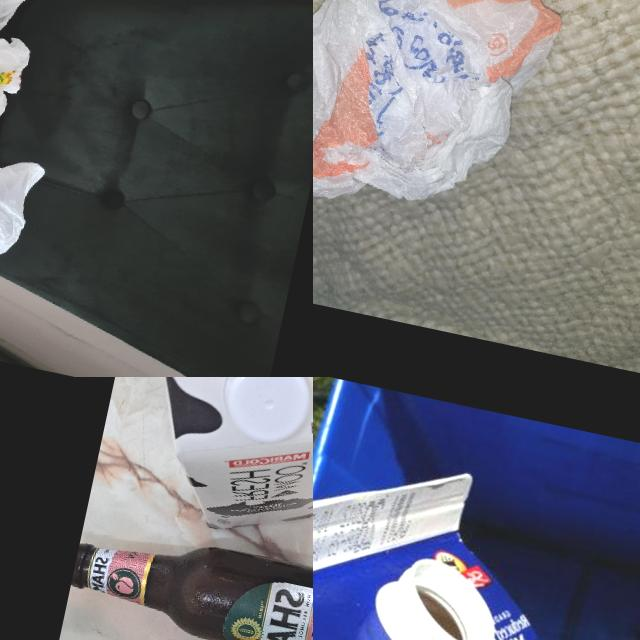caixinha: (313, 399, 578, 640), (108, 377, 313, 555)
garrafa de vidro: (65, 519, 313, 640)
sacola plástica: (313, 0, 576, 239), (0, 0, 86, 289)
tampa plástica: (214, 377, 313, 450)
